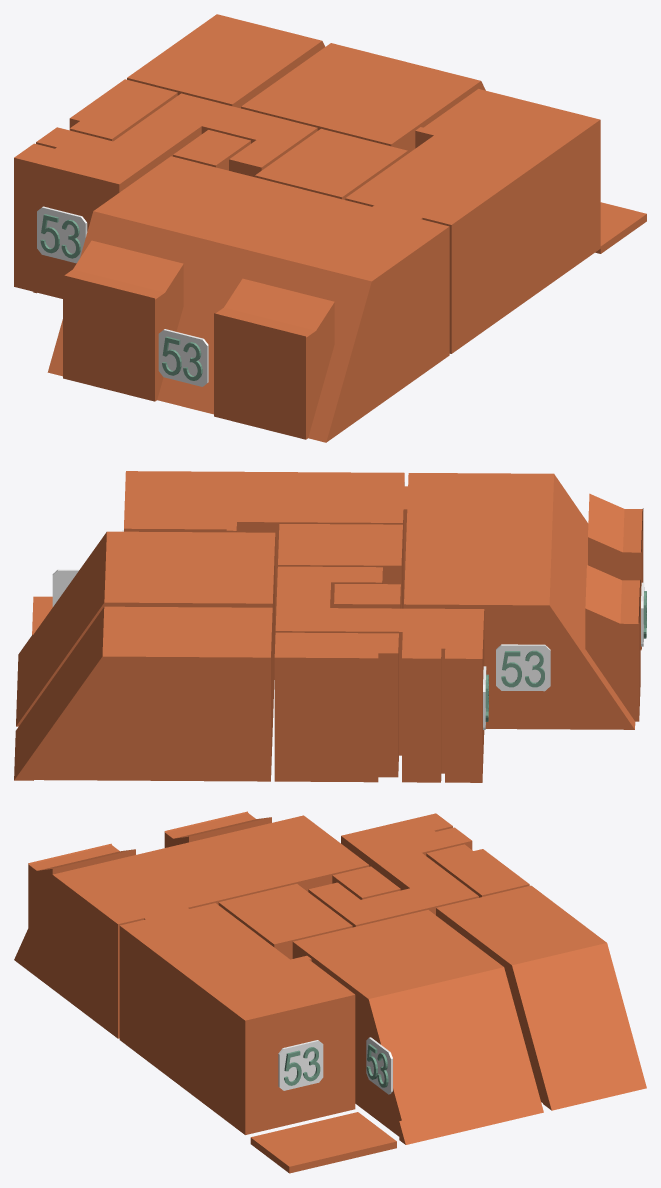
3 views of the same model, one above another, from view 1: azimuth 30°, elevation 25°; view 2: azimuth 150°, elevation 25°; view 3: azimuth 270°, elevation 25° (orthographic). The views are drawn at different scales.
Parts seen in each view (by area): view 1: g_6, g_5, g_4, g_1, g_2, g_3, g_0, g_23, g_7, g_17, g_8; view 2: g_6, g_2, g_4, g_1, g_0, g_5, g_3, g_14, g_7, g_11, g_8; view 3: g_5, g_1, g_6, g_2, g_4, g_8, g_3, g_0, g_20, g_7, g_11.
Boxes of the visible parts, x1,y1,x2,y2 form: g_6: [47, 156, 449, 442]; g_5: [345, 89, 600, 353]; g_4: [14, 93, 317, 298]; g_1: [241, 43, 485, 153]; g_2: [127, 14, 325, 108]; g_3: [255, 128, 407, 199]; g_0: [69, 79, 177, 141]; g_23: [158, 329, 208, 386]; g_7: [173, 130, 250, 170]; g_17: [37, 206, 87, 263]; g_8: [595, 202, 646, 253]; g_6: [404, 473, 643, 729]; g_2: [14, 606, 272, 781]; g_4: [275, 566, 484, 782]; g_1: [16, 531, 275, 727]; g_0: [274, 632, 398, 782]; g_5: [124, 471, 406, 634]; g_3: [278, 524, 402, 608]; g_14: [496, 644, 550, 691]; g_7: [334, 584, 400, 608]; g_11: [52, 569, 79, 606]; g_8: [32, 596, 52, 634]; g_5: [119, 903, 355, 1134]; g_1: [292, 910, 543, 1144]; g_6: [14, 811, 369, 1038]; g_2: [436, 885, 646, 1110]; g_4: [308, 813, 478, 927]; g_8: [250, 1112, 396, 1173]; g_3: [218, 884, 352, 959]; g_0: [426, 844, 529, 897]; g_20: [278, 1040, 323, 1090]; g_7: [332, 866, 400, 899]; g_11: [366, 1037, 392, 1094].
Size of the model in its own units: 12.64 by 2.71 by 12.75.
